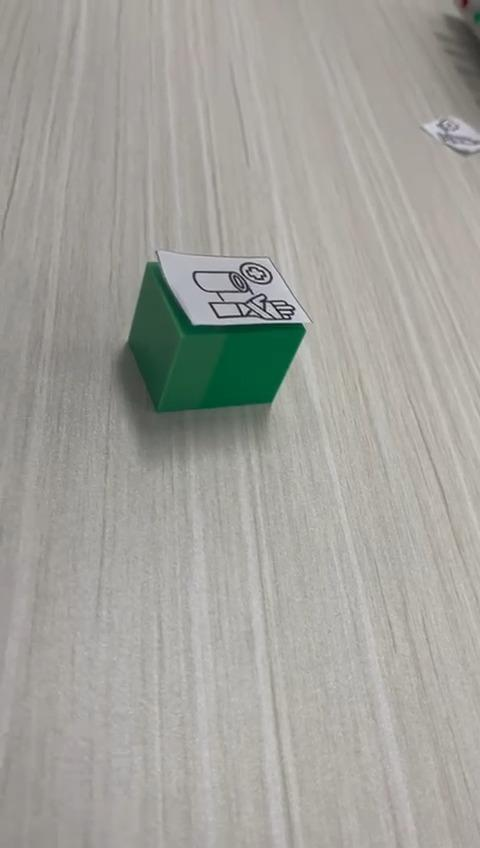Bandages: (129, 248, 312, 415)
